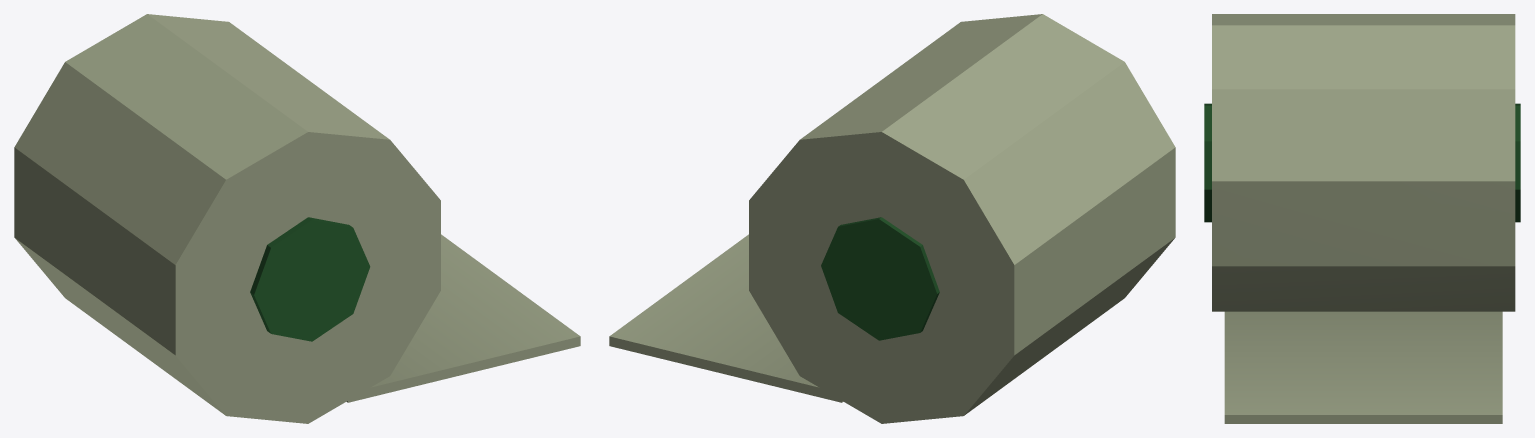
Rendered from Bandage.fbx.
3 renders of one model, left to right at view 1: azimuth 30°, elevation 25°; view 2: azimuth 150°, elevation 25°; view 3: azimuth 270°, elevation 25°, orthographic. The views are drawn at different scales.
Visible parts, largest first — view 1: Bandage; view 2: Bandage; view 3: Bandage.
Part boxes in pixels (x1=…): Bandage: x1=14, y1=14, x2=580, y2=423; Bandage: x1=609, y1=14, x2=1175, y2=423; Bandage: x1=1204, y1=14, x2=1520, y2=423.
Size of the model in its own units: 0.1771 by 0.12 by 0.125.
